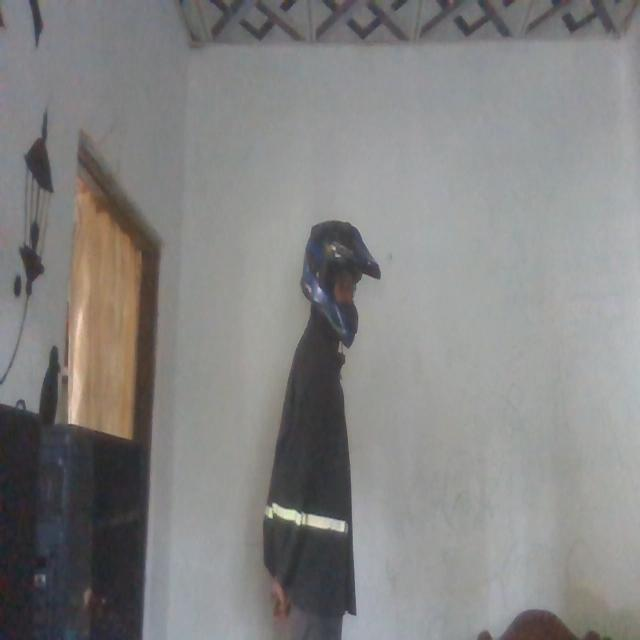Helmet_Wearer: (299, 212, 379, 342)
Jacket_Wearer: (261, 312, 357, 614)
Person: (262, 202, 376, 640)
